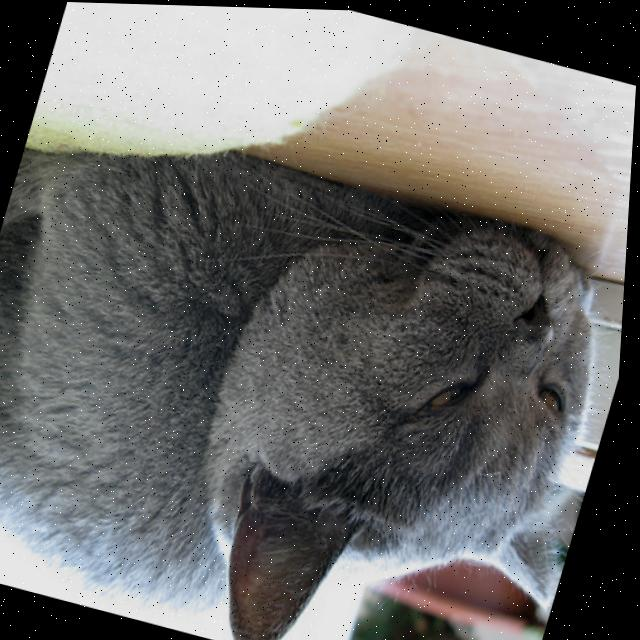British Shorthair: (0, 83, 636, 640)
